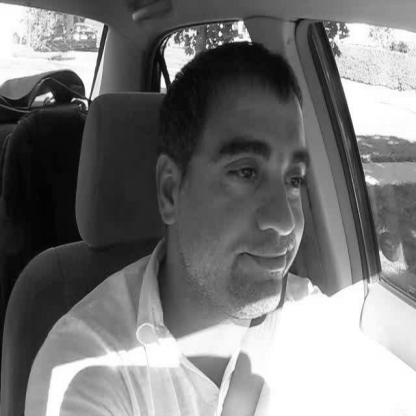seatbelt: (129, 43, 306, 416)
